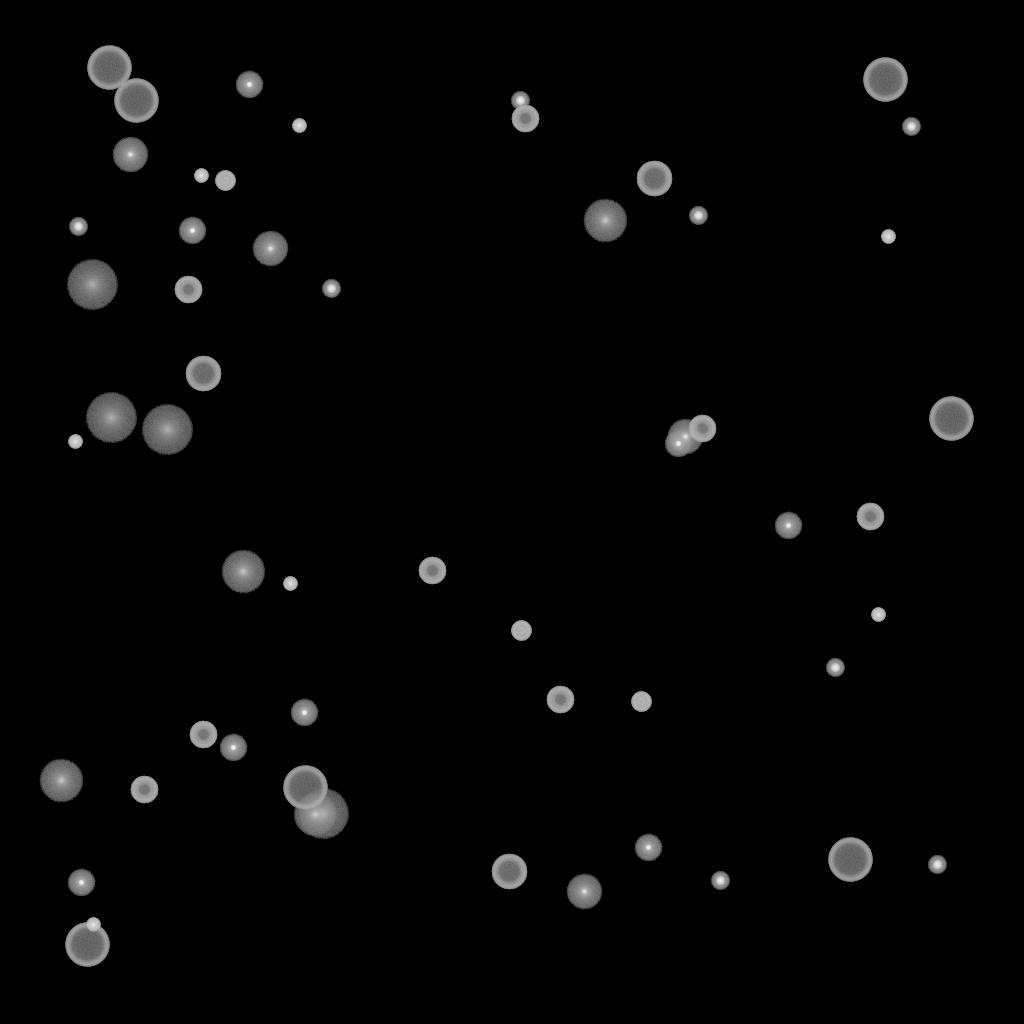depth:-10: (290, 699, 318, 727), (664, 430, 692, 458), (178, 217, 206, 245), (235, 71, 263, 99), (219, 734, 247, 762), (774, 512, 802, 540), (634, 834, 662, 862), (67, 869, 95, 897)
depth:-20: (69, 218, 87, 236), (322, 280, 340, 298), (928, 856, 946, 874), (511, 92, 529, 110), (902, 118, 920, 136), (711, 872, 729, 890), (689, 207, 707, 225), (826, 659, 844, 677)
depth:-30: (194, 169, 208, 183), (283, 577, 297, 591), (68, 435, 82, 449), (86, 918, 100, 932), (871, 608, 885, 622), (881, 230, 895, 244), (292, 119, 306, 133)
depth:-40: (511, 621, 531, 641), (215, 171, 235, 191), (631, 692, 651, 712)
depth:-50: (189, 721, 217, 749), (174, 276, 202, 304), (511, 105, 539, 133), (856, 503, 884, 531), (130, 776, 158, 804), (688, 415, 716, 443), (546, 686, 574, 714), (418, 557, 446, 585)
depth:-60: (185, 356, 221, 392), (636, 161, 672, 197), (491, 854, 527, 890)
depth:-70: (87, 46, 131, 90), (929, 397, 973, 441), (65, 923, 109, 967), (283, 766, 327, 810), (828, 838, 872, 882), (863, 58, 907, 102), (114, 79, 158, 123)
depth:0: (667, 419, 703, 455), (252, 231, 288, 267), (112, 137, 148, 173), (566, 874, 602, 910)
depth:10: (293, 793, 337, 837), (39, 759, 83, 803), (221, 550, 265, 594), (583, 199, 627, 243)
depth:20: (85, 393, 137, 443), (141, 405, 193, 455), (66, 260, 118, 310), (297, 789, 349, 839)
